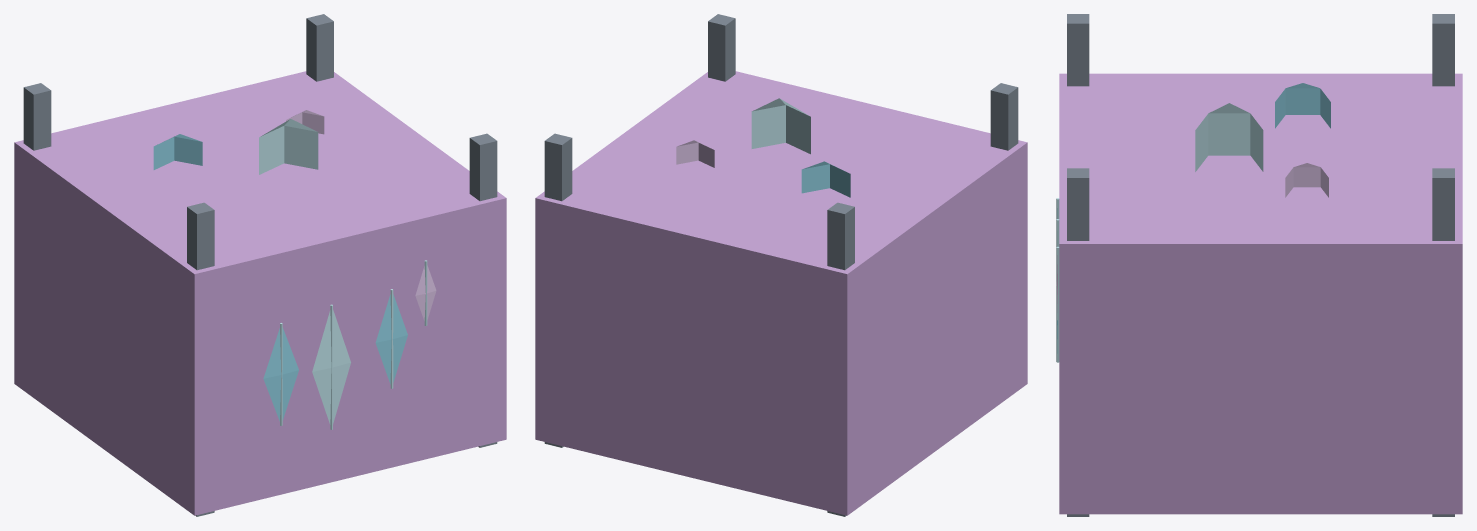
File: geoda_pequena.glb
The picture shows the model from 3 angles, left to right: view 1: azimuth 30°, elevation 25°; view 2: azimuth 150°, elevation 25°; view 3: azimuth 270°, elevation 25°; orthographic projection. The views are drawn at different scales.
Visible parts, largest first — view 1: geoda_pequena; view 2: geoda_pequena; view 3: geoda_pequena.
Boxes of the visible parts, x1,y1,x2,y2 form: geoda_pequena: [14, 14, 506, 516]; geoda_pequena: [535, 14, 1027, 516]; geoda_pequena: [1056, 14, 1462, 516].
Bounding box in the file's own units: 1.25 × 1.16 × 1.26.
